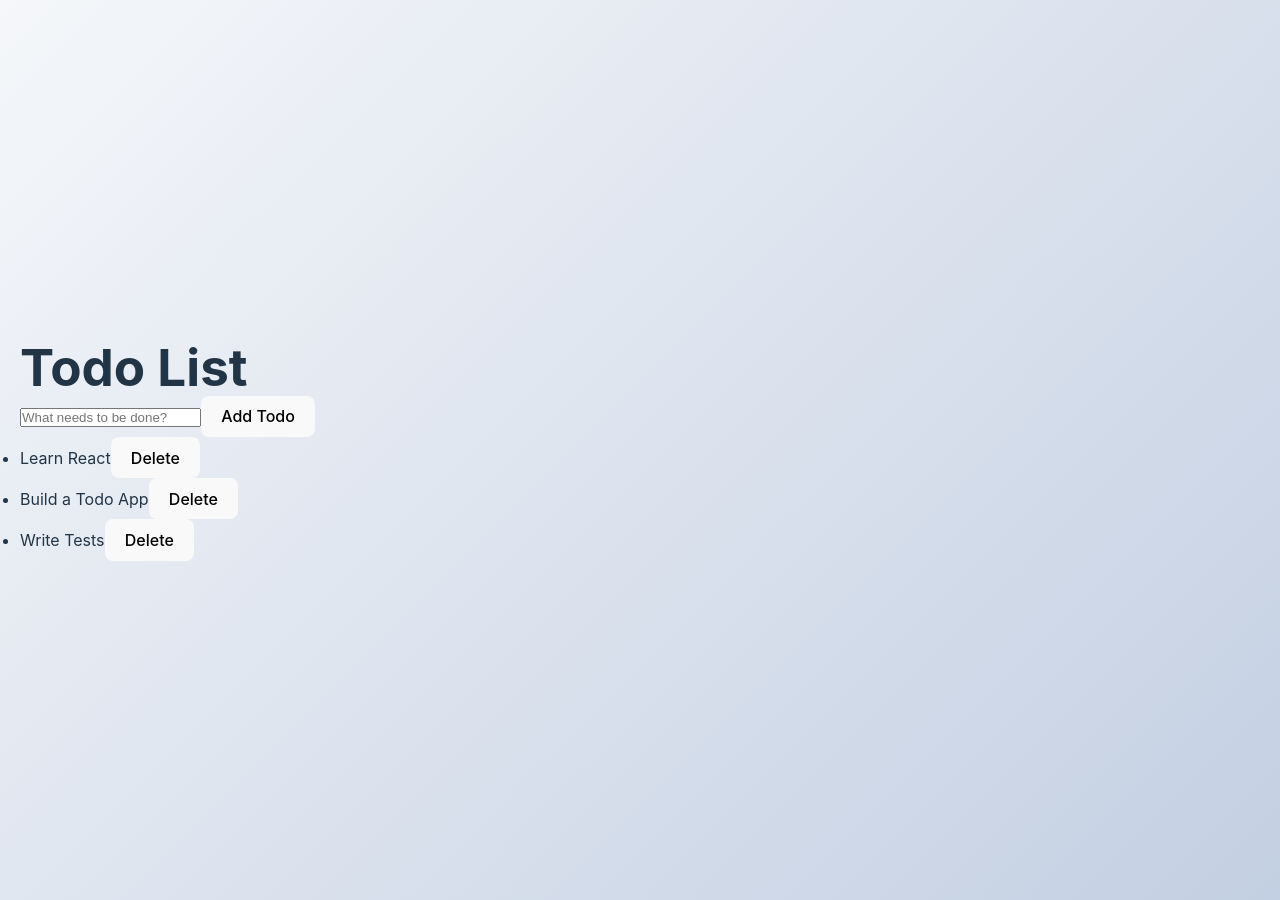
Test case: deletes a todo when delete button is clicked
The image size is (1280, 900).
Expected: the text "Learn React" is shown, [20,448,111,468]
Click the button "Delete" next to "Learn React" at (155, 458), box [111,437,200,478]
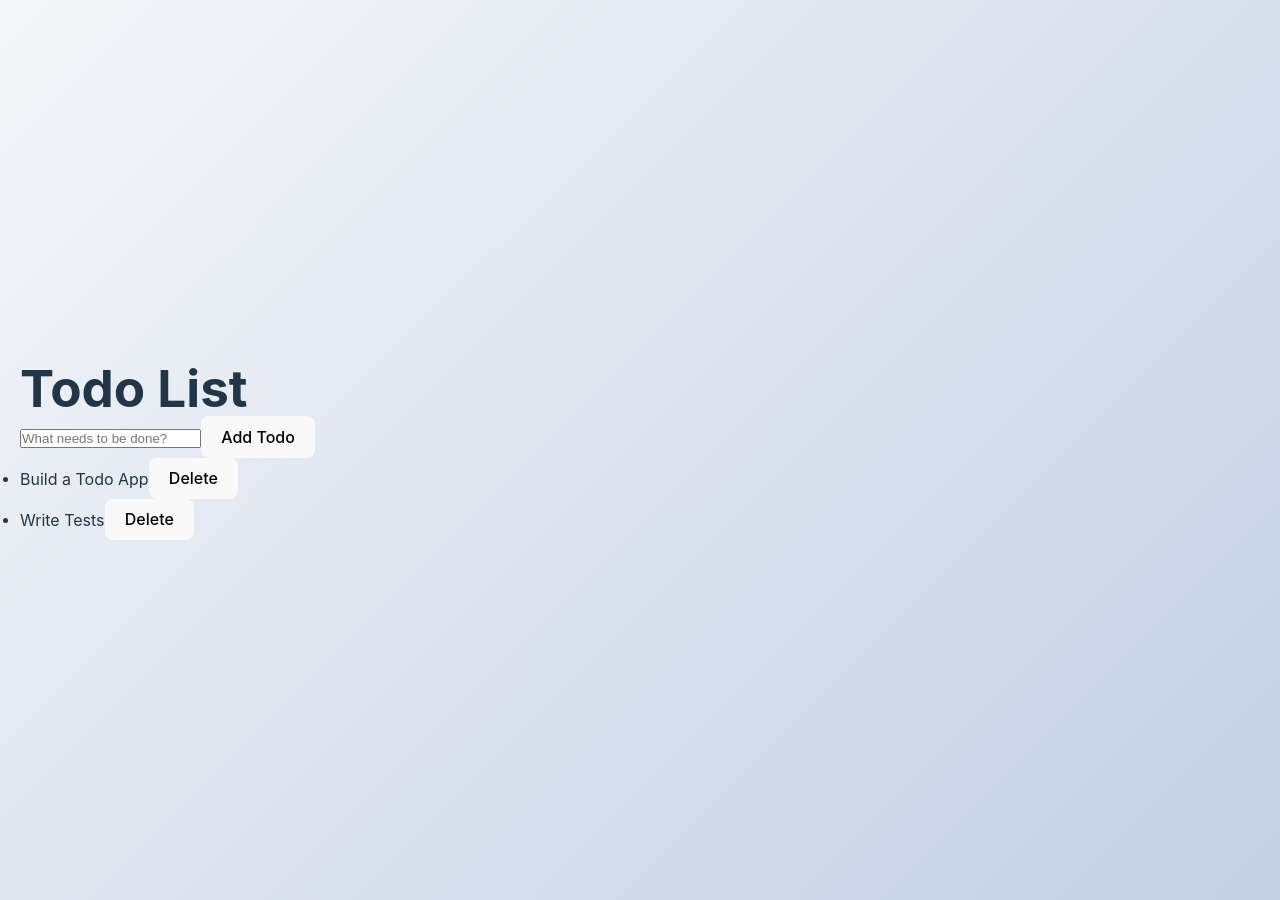
Result: the text "Learn React" is gone
